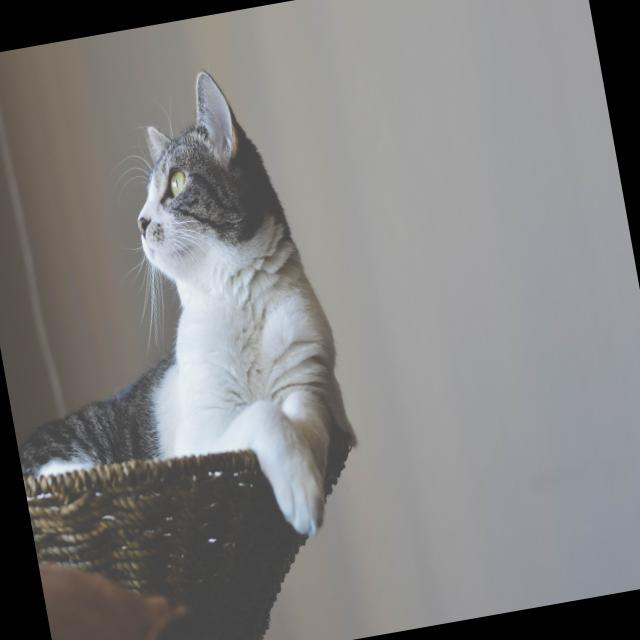animal: (0, 58, 388, 557)
